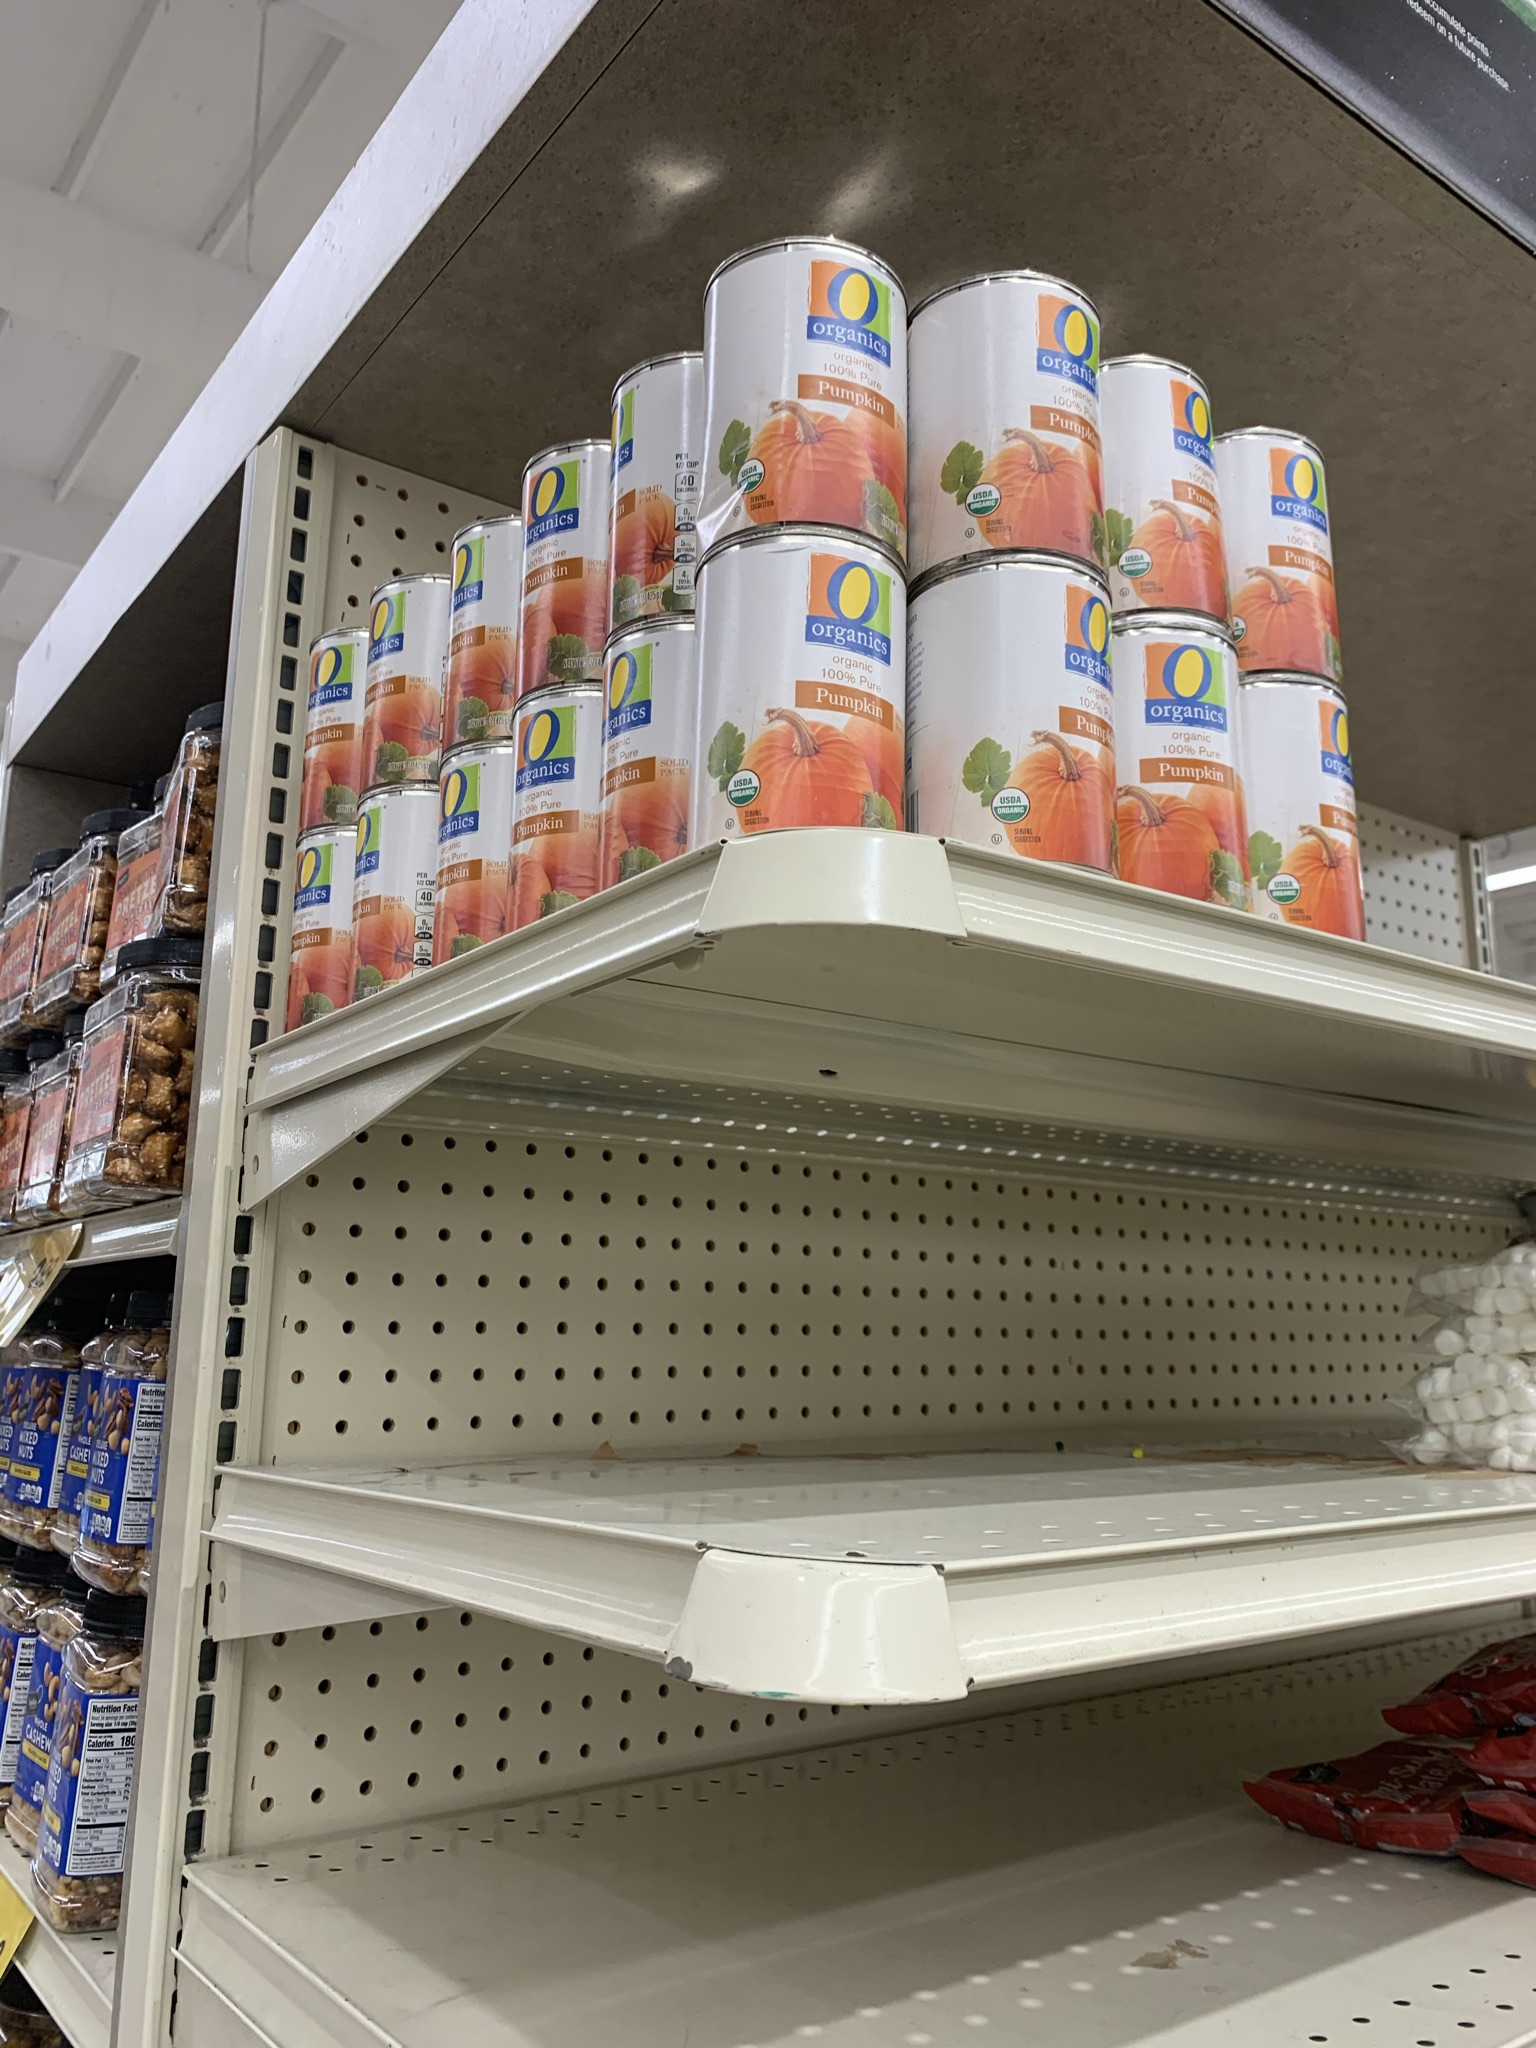can: (720, 268, 894, 535), (926, 302, 1097, 556), (950, 577, 1100, 868), (736, 548, 886, 821), (1128, 635, 1238, 897), (1231, 443, 1341, 674), (1112, 373, 1208, 613), (1255, 685, 1350, 926), (616, 651, 694, 860), (618, 389, 687, 613), (523, 476, 594, 681), (520, 719, 594, 906), (357, 814, 428, 974), (439, 777, 503, 940), (452, 540, 507, 727), (374, 600, 431, 780), (302, 647, 358, 808), (297, 847, 340, 1009)
